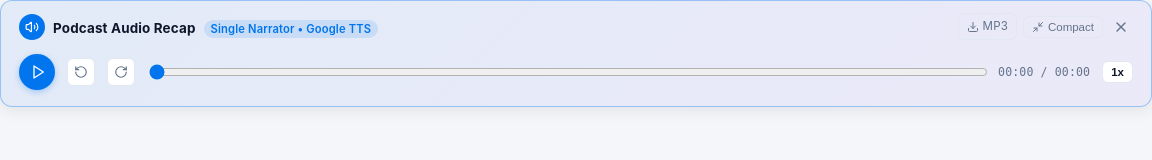
LecturePodcastPlayer Component › toggles between full card and compact mode when podcast is ready
This screenshot has width=1152, height=160.
Click to compact
Step 1. Click the button with aria-label "Minimize player to compact bar" → {"x": 1063, "y": 27}, box [1023,16,1103,38]
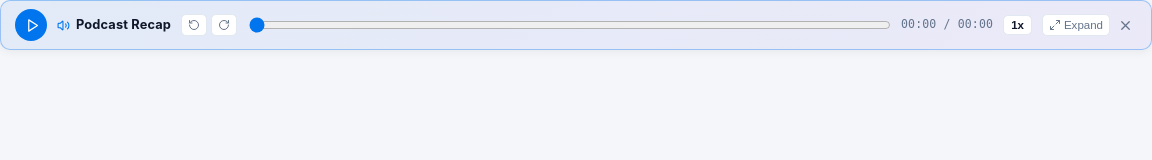
Result: the button with aria-label "Expand player to full view" is shown
Click expand
Step 2. Click the button with aria-label "Expand player to full view" → {"x": 1076, "y": 25}, box [1042,14,1110,36]
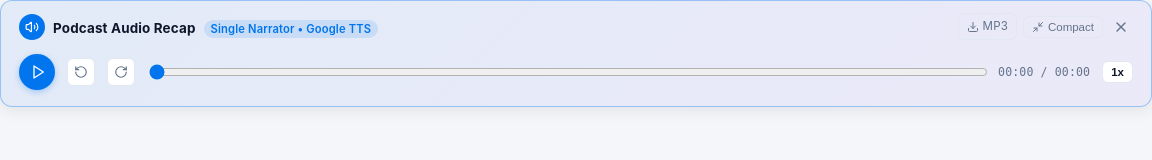
Result: the button with aria-label "Minimize player to compact bar" is shown at [1023,16,1103,38]
